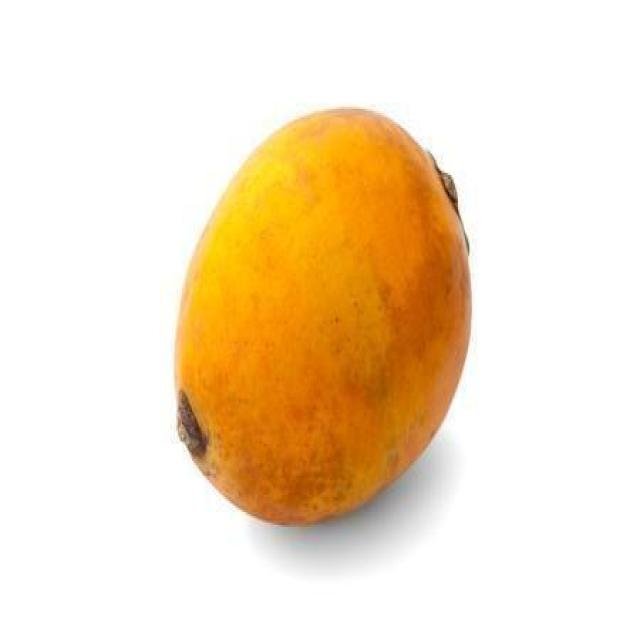good: (174, 107, 474, 529)
